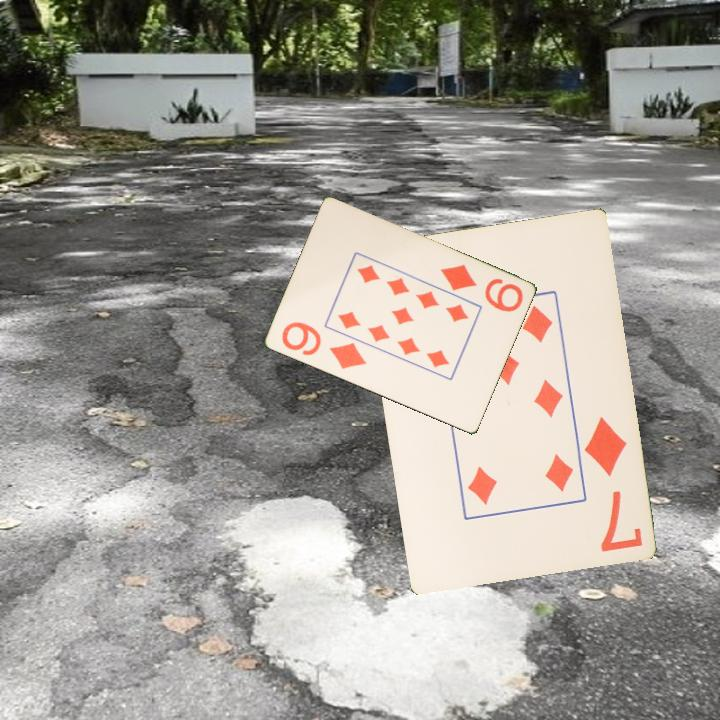7d: (580, 412, 645, 555)
9d: (278, 318, 369, 373), (436, 260, 526, 315)
